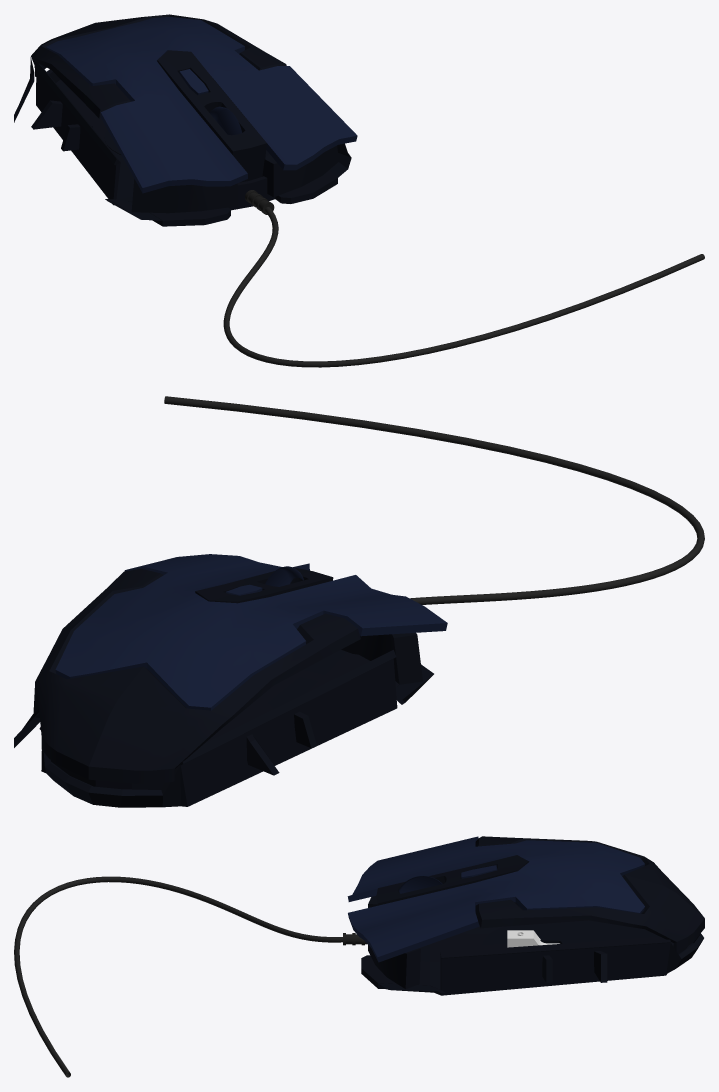
The model's file is MOUSE GAMING.fbx.
3 renders of one model, top to bottom at view 1: azimuth 30°, elevation 25°; view 2: azimuth 150°, elevation 25°; view 3: azimuth 270°, elevation 25°, orthographic. The views are drawn at different scales.
Visible parts, largest first — view 1: Top cover + click buttons, Bottom cover, Front cover, Wire, Scroll and dps panel, Top back cover, Side cover, Scroll; view 2: Top cover + click buttons, Top back cover, Bottom cover, Wire, Front cover, Scroll and dps panel, Side cover; view 3: Top cover + click buttons, Bottom cover, Top back cover, Wire, Scroll and dps panel, Front cover, Plane.001, Scroll.
Boxes of the visible parts, <box> form: Top cover + click buttons: <box>46,17,357,193</box>; Bottom cover: <box>31,63,337,226</box>; Front cover: <box>131,145,338,213</box>; Wire: <box>223,207,704,367</box>; Scroll and dps panel: <box>157,50,266,182</box>; Top back cover: <box>31,14,286,118</box>; Side cover: <box>14,57,351,220</box>; Scroll: <box>209,106,241,135</box>; Top cover + click buttons: <box>55,554,447,710</box>; Top back cover: <box>36,568,360,783</box>; Bottom cover: <box>36,650,421,807</box>; Wire: <box>164,396,704,604</box>; Front cover: <box>341,633,422,684</box>; Scroll and dps panel: <box>195,567,333,603</box>; Side cover: <box>14,665,433,747</box>; Top cover + click buttons: <box>347,836,644,962</box>; Bottom cover: <box>361,920,703,995</box>; Top back cover: <box>475,836,704,951</box>; Wire: <box>14,876,342,1077</box>; Scroll and dps panel: <box>376,855,528,905</box>; Front cover: <box>368,896,420,989</box>; Plane.001: <box>507,930,559,947</box>; Scroll: <box>398,876,442,893</box>.
Size of the model in its own units: 668 by 141 by 981.
